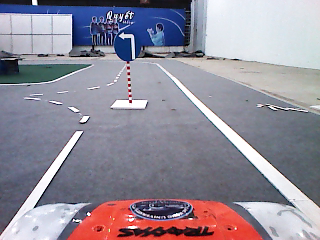turn: (113, 28, 142, 62)
